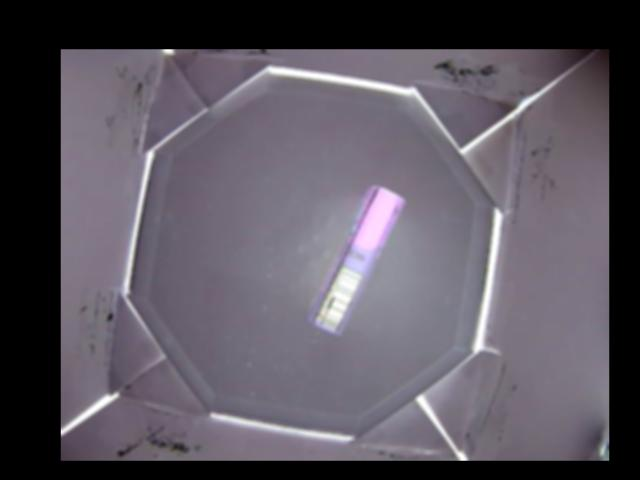Bottle: (309, 185, 407, 336)
